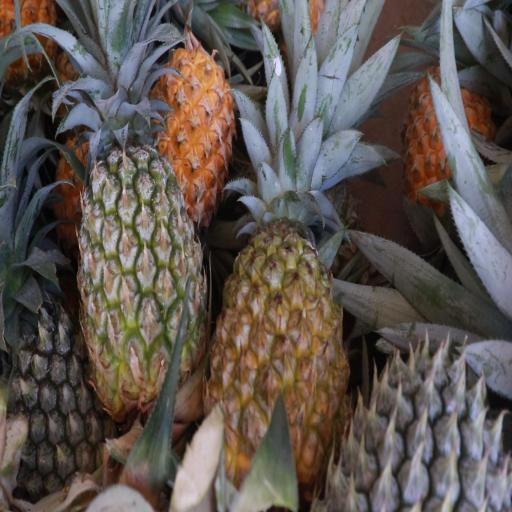------------------------------: (74, 126, 205, 404)
Pineapple - v8 v1: (206, 178, 348, 487), (82, 42, 226, 188), (402, 74, 493, 198)
